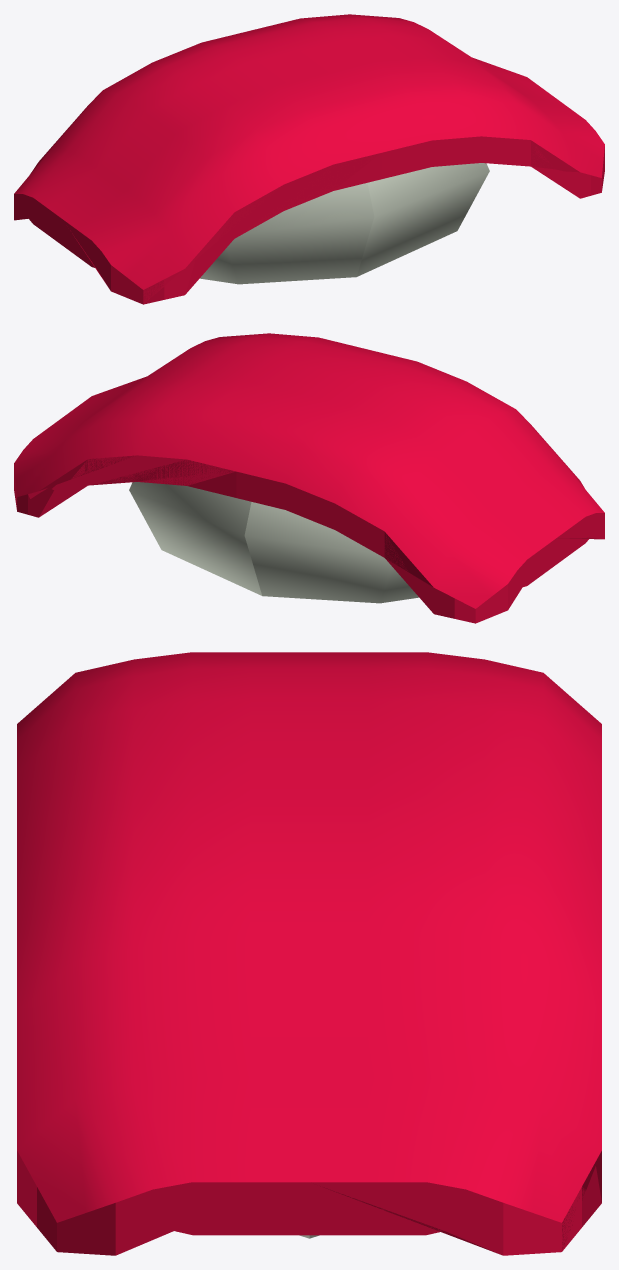
Rendered from sushi_LOD2.fbx.
3 views of the same model, one above another, from view 1: azimuth 30°, elevation 25°; view 2: azimuth 150°, elevation 25°; view 3: azimuth 270°, elevation 25° (orthographic). The views are drawn at different scales.
Parts seen in each view (by area): view 1: akami.002; view 2: akami.002; view 3: akami.002.
Boxes of the visible parts, <box> form: akami.002: <box>14,14,604,304</box>; akami.002: <box>14,333,604,623</box>; akami.002: <box>17,652,601,1255</box>.
Size of the model in its own units: 390 by 153 by 200.
